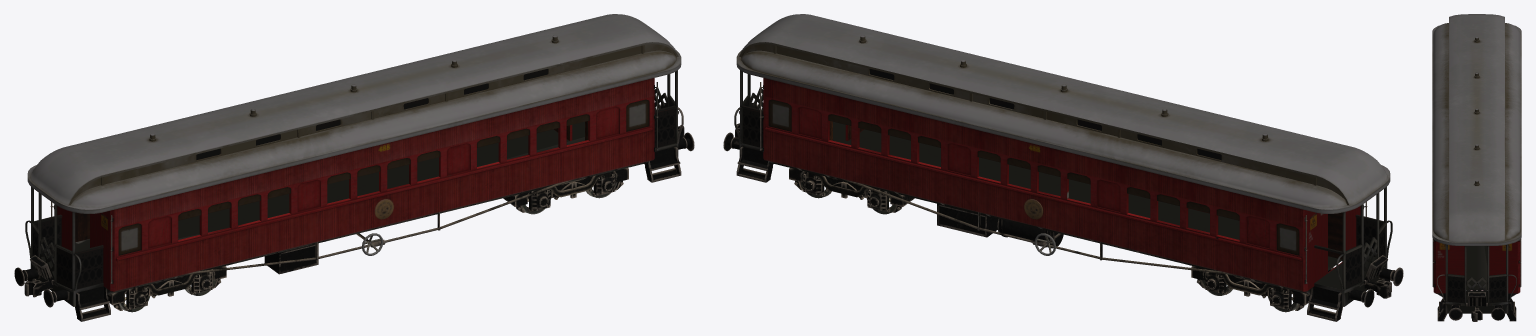
The model's file is carriage_empty.gltf.
3 views of the same model, side by side, from view 1: azimuth 30°, elevation 25°; view 2: azimuth 150°, elevation 25°; view 3: azimuth 270°, elevation 25° (orthographic). The views are drawn at different scales.
Parts seen in each view (by area): view 1: exterior, exterior_2sided, bogie, bogie.001, top_windows; view 2: exterior, exterior_2sided, bogie, bogie.001, top_windows; view 3: exterior, exterior_2sided.
Boxes of the visible parts, x1=… form: exterior: x1=14, y1=14, x2=694, y2=321; exterior_2sided: x1=32, y1=99, x2=675, y2=289; bogie: x1=107, y1=266, x2=226, y2=310; bogie.001: x1=503, y1=168, x2=628, y2=212; top_windows: x1=196, y1=69, x2=548, y2=159; exterior: x1=723, y1=14, x2=1403, y2=321; exterior_2sided: x1=742, y1=99, x2=1385, y2=288; bogie: x1=1191, y1=266, x2=1333, y2=310; bogie.001: x1=789, y1=168, x2=914, y2=212; top_windows: x1=869, y1=69, x2=1221, y2=159; exterior: x1=1432, y1=14, x2=1521, y2=321; exterior_2sided: x1=1447, y1=276, x2=1506, y2=303.
Bounding box in the file's own units: 20.88 × 4.86 × 3.38.
4 materials, 4 textured.
